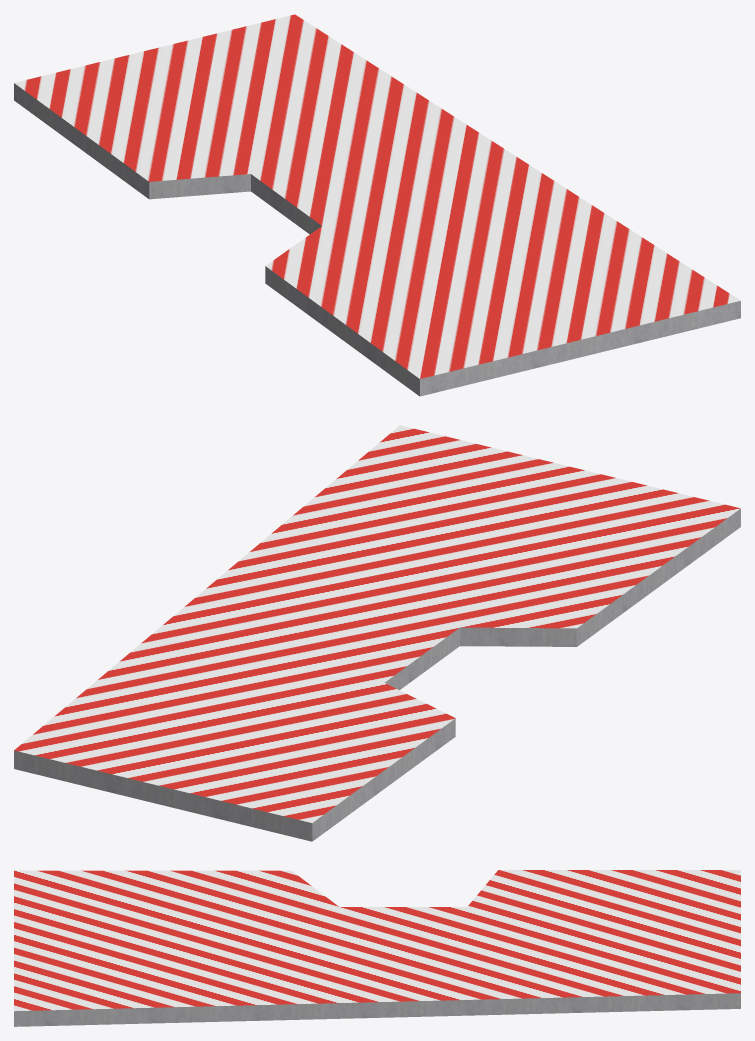
Rendered from LLHZSIDEWALK2.gltf.
3 renders of one model, top to bottom at view 1: azimuth 30°, elevation 25°; view 2: azimuth 150°, elevation 25°; view 3: azimuth 270°, elevation 25°, orthographic. The views are drawn at different scales.
Parts seen in each view (by area): view 1: node1, node2; view 2: node1, node2; view 3: node1, node2.
Boxes of the visible parts, <box> form: node1: <box>14,14,740,378</box>; node2: <box>14,83,740,396</box>; node1: <box>14,425,740,822</box>; node2: <box>14,508,740,841</box>; node1: <box>14,870,740,1011</box>; node2: <box>14,993,740,1026</box>.
Size of the model in its own units: 4.81 by 0.25 by 10.48.
